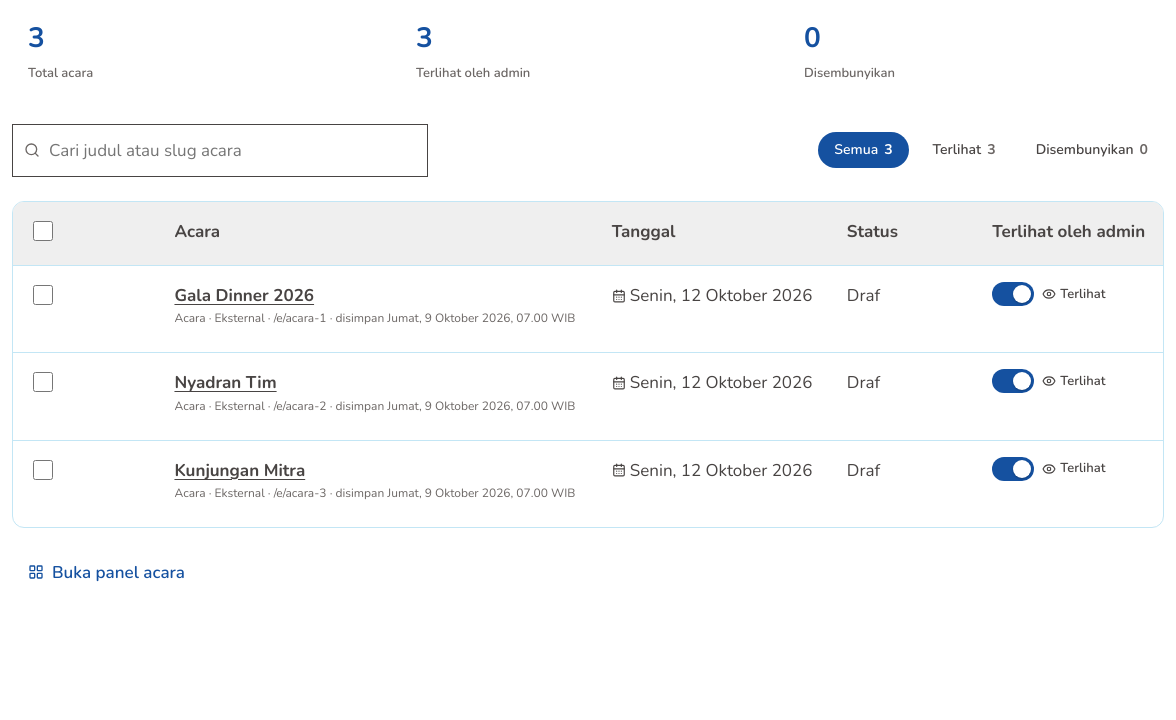
Test: hides one event with its switch
Step 1. Click the switch named "Terlihat oleh admin: Gala Dinner 2026" → (1013, 294), box [992,282,1034,306]
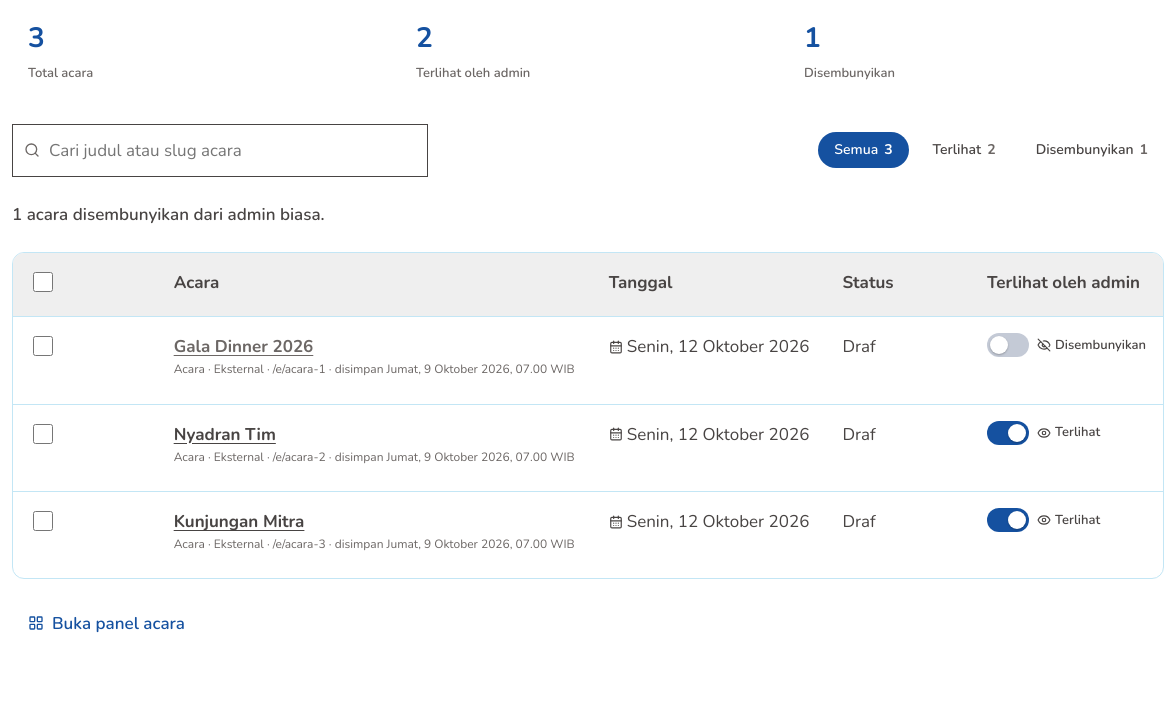
Now the switch named "Terlihat oleh admin: Gala Dinner 2026" is not checked, box [987,333,1029,357]
Now the text "1 acara disembunyikan dari admin biasa." is shown, box [12,203,325,226]
